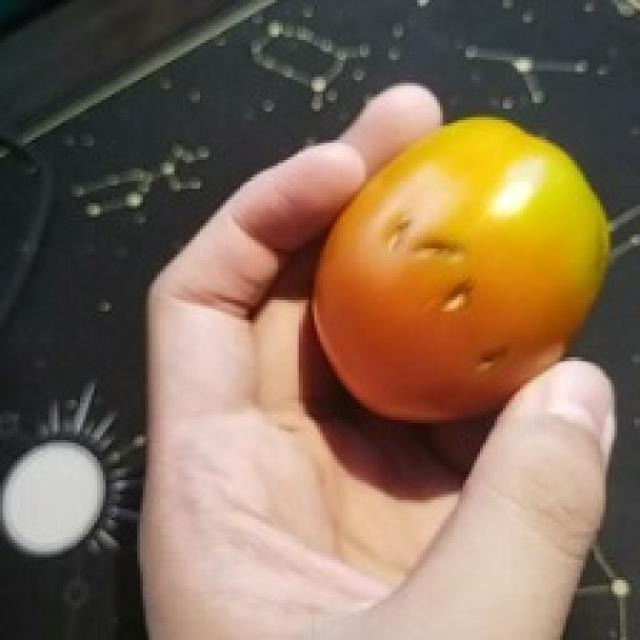Rotten Tomato: (307, 93, 614, 452)
